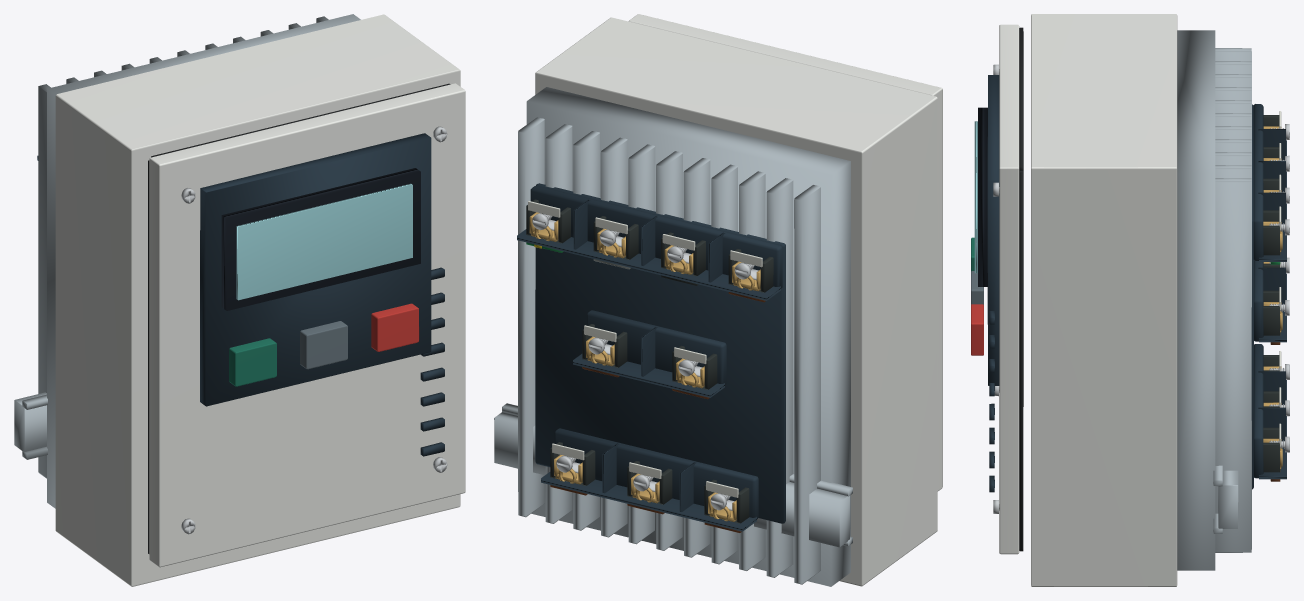
The model's file is vfd_default.low.glb.
3 views of the same model, side by side, from view 1: azimuth 30°, elevation 25°; view 2: azimuth 150°, elevation 25°; view 3: azimuth 270°, elevation 25° (orthographic). The views are drawn at different scales.
Parts seen in each view (by area): view 1: part:cover, part:body, part:cover · Original a463fd81, part:display, part:body · Original 2a8198d3, part:mounting · Original 2a8198d3, part:body.003, part:body.002, part:body.001, detail:enclosure-gasket-and-fixings · Detail rubber gasket, detail:enclosure-gasket-and-fixings · Detail zinc plated fix; view 2: part:body, part:body · Original 2a8198d3, part:terminals · Original a463fd81, part:cover, part:mounting · Original 2a8198d3, detail:terminal-clamp:L2 · Detail moulded engineering polyme, detail:terminal-clamp:L1 · Detail moulded engineering polyme, detail:terminal-clamp:W · Detail moulded engineering polymer, detail:terminal-clamp:L3 · Detail moulded engineering polyme, detail:terminal-clamp:COM · Detail moulded engineering polym, detail:terminal-clamp:RUN · Detail moulded engineering polym, detail:terminal-clamp:U · Detail moulded engineering polymer (+2 smaller); view 3: part:body, part:body · Original 2a8198d3, part:cover, part:terminals · Original a463fd81, part:cover · Original a463fd81, detail:enclosure-gasket-and-fixings · Detail rubber gasket, part:display, part:mounting · Original 2a8198d3, detail:terminal-clamp:PE · Detail moulded engineering polyme, detail:terminal-clamp:W · Detail moulded engineering polymer, detail:terminal-clamp:RUN · Detail moulded engineering polym, part:body.003.
Part boxes in pixels (left/top/right/bottom): part:cover: left=149, top=83, right=465, bottom=567; part:body: left=55, top=14, right=460, bottom=586; part:cover · Original a463fd81: left=200, top=133, right=444, bottom=456; part:display: left=221, top=168, right=420, bottom=310; part:body · Original 2a8198d3: left=38, top=14, right=360, bottom=508; part:mounting · Original 2a8198d3: left=14, top=392, right=47, bottom=459; part:body.003: left=371, top=303, right=419, bottom=351; part:body.002: left=300, top=321, right=347, bottom=369; part:body.001: left=229, top=338, right=276, bottom=386; detail:enclosure-gasket-and-fixings · Detail rubber gasket: left=148, top=83, right=450, bottom=553; detail:enclosure-gasket-and-fixings · Detail zinc plated fix: left=181, top=126, right=447, bottom=534; part:body: left=535, top=17, right=937, bottom=586; part:body · Original 2a8198d3: left=518, top=87, right=850, bottom=586; part:terminals · Original a463fd81: left=517, top=183, right=785, bottom=531; part:cover: left=628, top=14, right=942, bottom=491; part:mounting · Original 2a8198d3: left=494, top=403, right=852, bottom=547; detail:terminal-clamp:L2 · Detail moulded engineering polyme: left=661, top=232, right=705, bottom=285; detail:terminal-clamp:L1 · Detail moulded engineering polyme: left=728, top=249, right=773, bottom=292; detail:terminal-clamp:W · Detail moulded engineering polymer: left=550, top=442, right=595, bottom=485; detail:terminal-clamp:L3 · Detail moulded engineering polyme: left=593, top=216, right=638, bottom=259; detail:terminal-clamp:COM · Detail moulded engineering polym: left=672, top=345, right=717, bottom=389; detail:terminal-clamp:RUN · Detail moulded engineering polym: left=582, top=324, right=627, bottom=367; detail:terminal-clamp:U · Detail moulded engineering polymer: left=704, top=479, right=749, bottom=523; part:body: left=1031, top=14, right=1177, bottom=586; part:body · Original 2a8198d3: left=1177, top=30, right=1251, bottom=570; part:cover: left=999, top=24, right=1019, bottom=554; part:terminals · Original a463fd81: left=1251, top=104, right=1286, bottom=489; part:cover · Original a463fd81: left=987, top=75, right=999, bottom=492; detail:enclosure-gasket-and-fixings · Detail rubber gasket: left=1019, top=27, right=1023, bottom=551; part:display: left=974, top=107, right=987, bottom=286; part:mounting · Original 2a8198d3: left=1213, top=465, right=1238, bottom=533; detail:terminal-clamp:PE · Detail moulded engineering polyme: left=1263, top=210, right=1280, bottom=255; detail:terminal-clamp:W · Detail moulded engineering polymer: left=1263, top=427, right=1280, bottom=472; detail:terminal-clamp:RUN · Detail moulded engineering polym: left=1263, top=290, right=1280, bottom=335; part:body.003: left=971, top=304, right=983, bottom=355.
Bounding box in the file's own units: 1.24 × 1.49 × 1.03.
